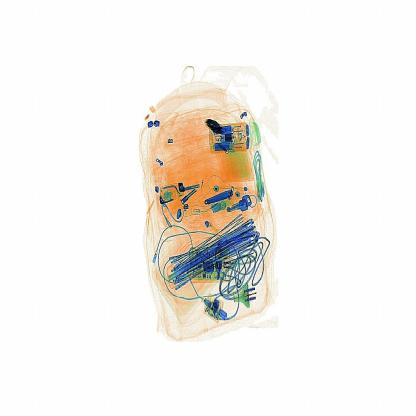scissors: (196, 110, 228, 145)
